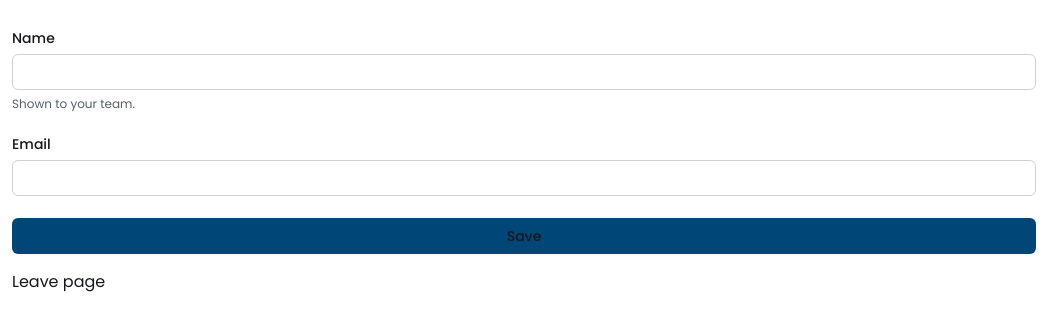
Scenario: mapServerErrorsToForm › turns a violation on an unknown field into a form-level error instead of dropping it
Type "Alice" into the field labelled "Name".
click(524, 72); type("Alice")  # box top-left (12, 54), bottom-right (1036, 90)
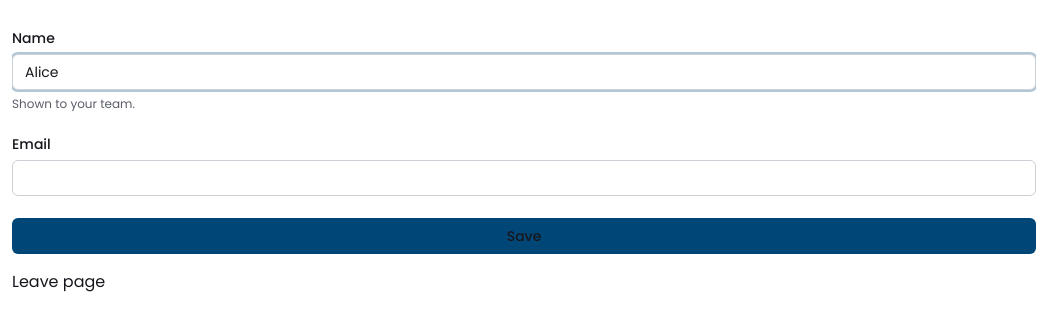
Type "a@example.com" into the field labelled "Email".
click(524, 178); type("a@example.com")  # box top-left (12, 160), bottom-right (1036, 196)
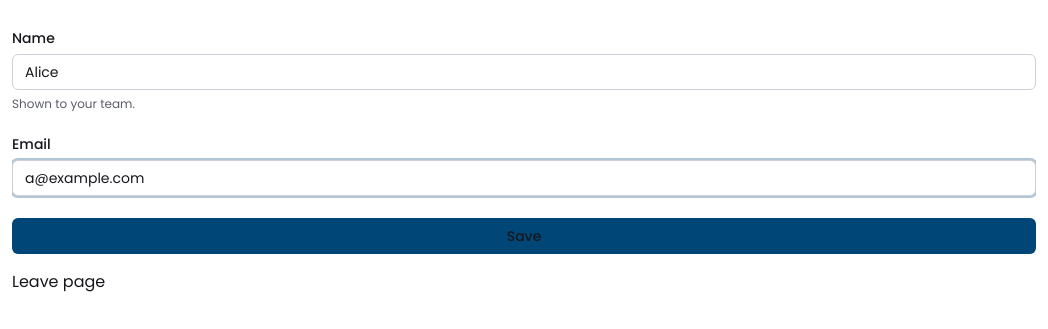
Click the button "Save".
click(524, 236)  # box top-left (12, 218), bottom-right (1036, 254)
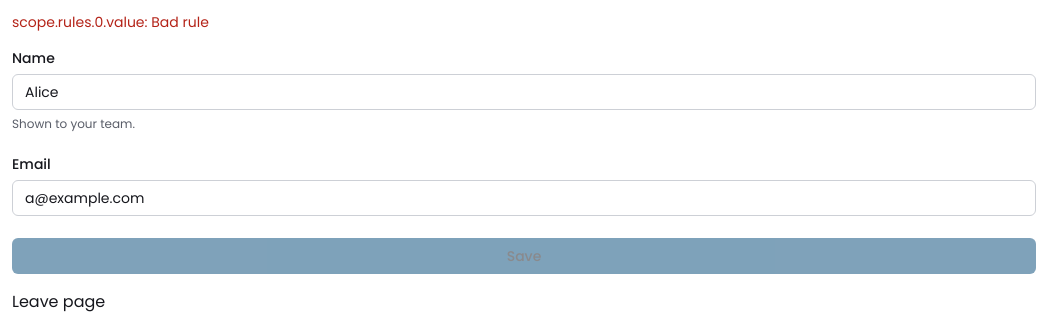
Expected: the text "scope.rules.0.value: Bad rule" is shown, top-left (12, 12), bottom-right (209, 32)
